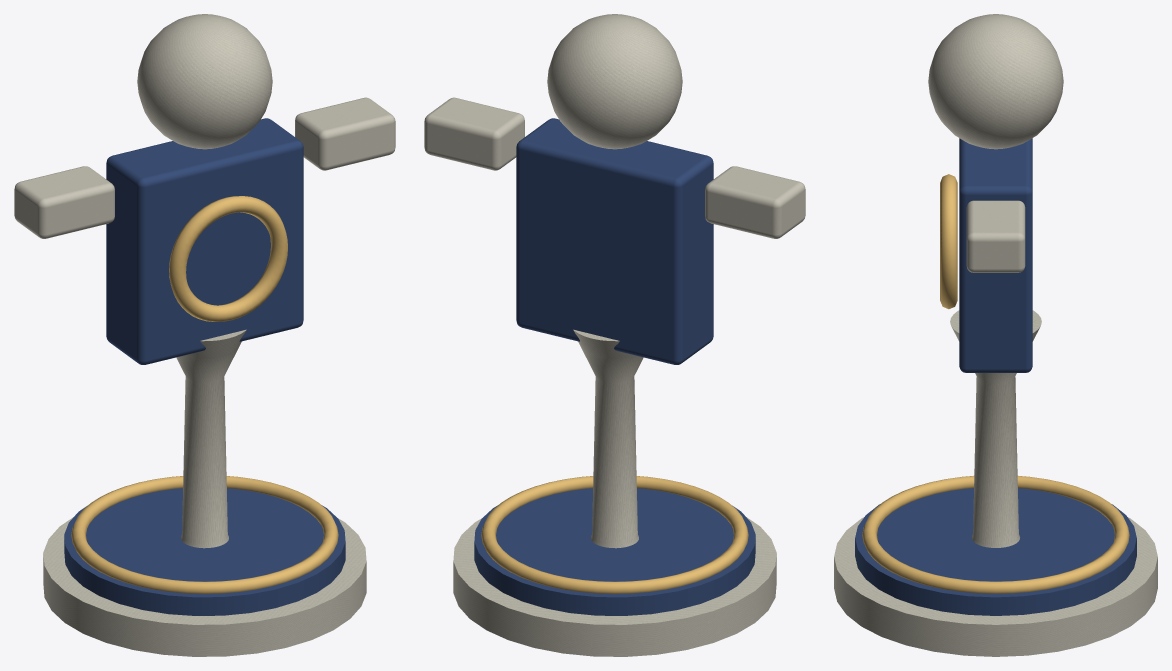
File: arcane-academy-and-spell-trials-target-construct-3e68a72c__28303.glb
3 views of the same model, side by side, from view 1: azimuth 30°, elevation 25°; view 2: azimuth 150°, elevation 25°; view 3: azimuth 270°, elevation 25° (orthographic).
Visible parts, largest first — view 1: target-construct; view 2: target-construct; view 3: target-construct.
Boxes of the visible parts, x1,y1,x2,y2 form: target-construct: [14, 14, 395, 656]; target-construct: [424, 14, 805, 656]; target-construct: [834, 14, 1157, 656].
Size of the model in its own units: 1.4 by 2.13 by 1.1.
3 materials, 1 textured.
